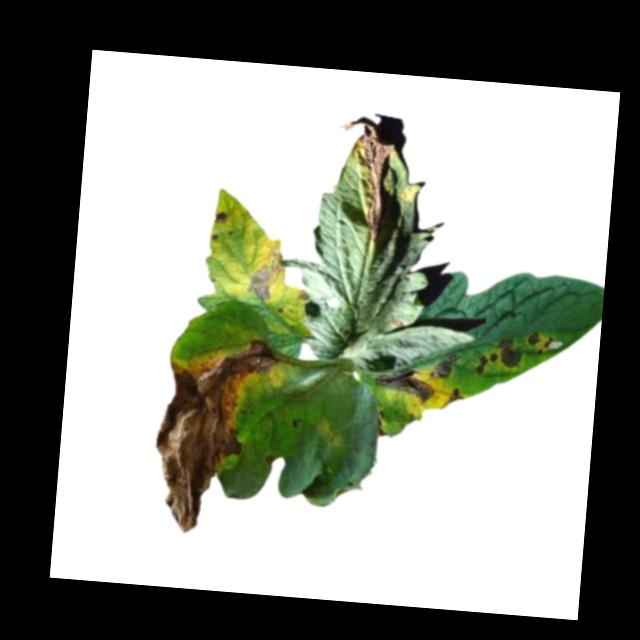Early_blight: (148, 332, 279, 540), (332, 115, 398, 247), (372, 362, 436, 407), (244, 251, 285, 304), (432, 350, 460, 383), (497, 337, 524, 370), (526, 330, 553, 359), (445, 383, 468, 412), (474, 351, 497, 377), (214, 210, 230, 227)
